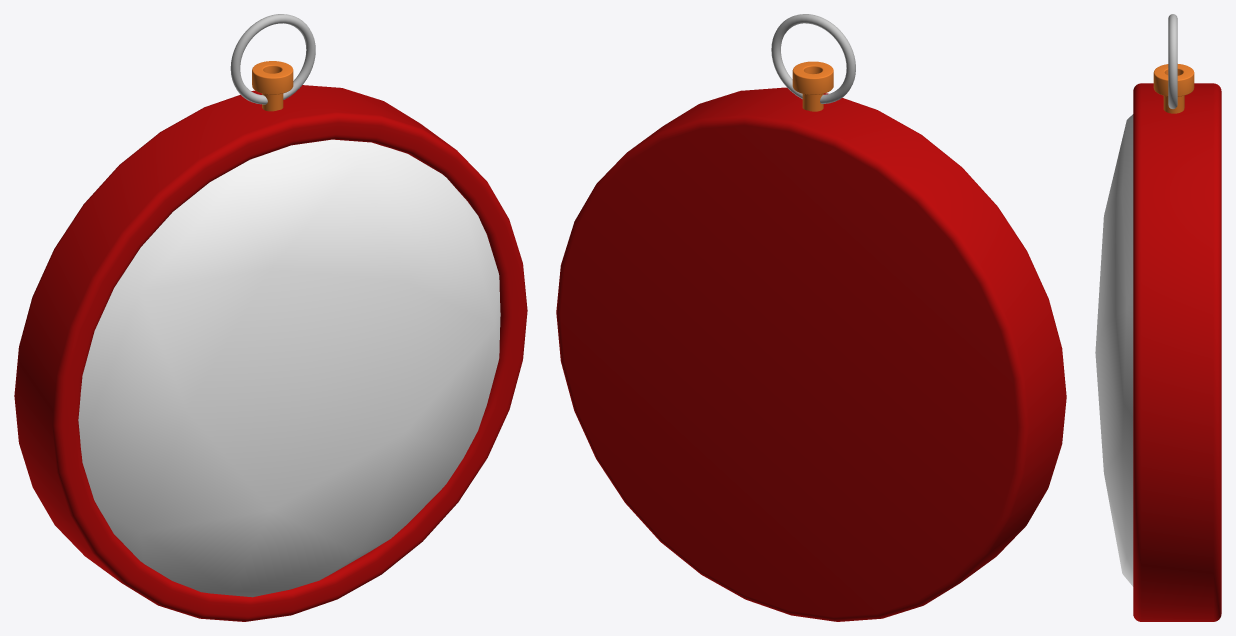
The model's file is hand_clock.glb.
3 renders of one model, left to right at view 1: azimuth 30°, elevation 25°; view 2: azimuth 150°, elevation 25°; view 3: azimuth 270°, elevation 25°, orthographic.
Visible parts, largest first — view 1: BezierCircle.001; view 2: BezierCircle.001; view 3: BezierCircle.001.
Boxes of the visible parts, left/top/right/bottom form: BezierCircle.001: left=14, top=14, right=527, bottom=621; BezierCircle.001: left=556, top=14, right=1066, bottom=621; BezierCircle.001: left=1095, top=14, right=1221, bottom=621.
Size of the model in its own units: 3.52 by 4.17 by 0.8232.
